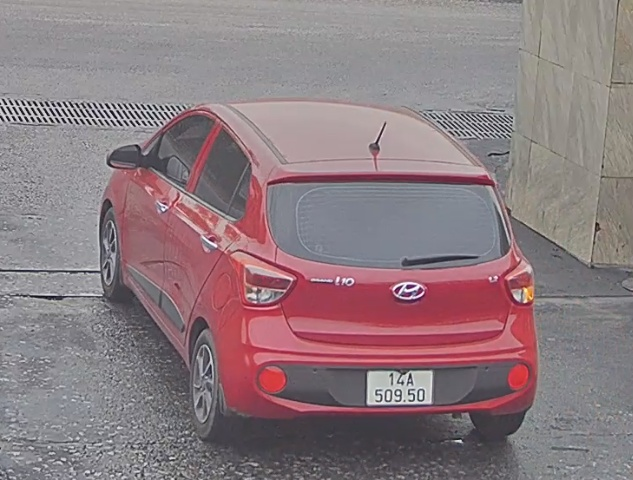vehicle plate: (360, 367, 438, 408)
